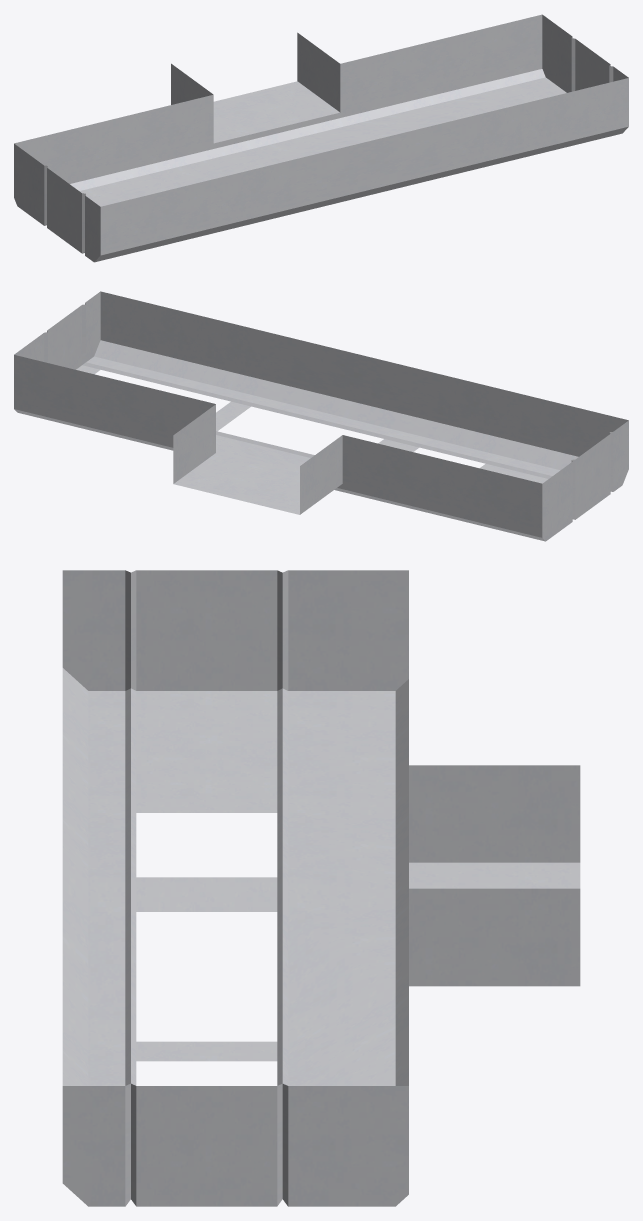
File: SM_Steckdosenbox_02.obj
The picture shows the model from 3 angles, top to bottom: view 1: azimuth 30°, elevation 25°; view 2: azimuth 150°, elevation 25°; view 3: azimuth 270°, elevation 25°; orthographic projection. The views are drawn at different scales.
Visible parts, largest first — view 1: SM_Steckdosenbox_02; view 2: SM_Steckdosenbox_02; view 3: SM_Steckdosenbox_02.
Part boxes in pixels (box(x1,y1,x2,y2)): SM_Steckdosenbox_02: box(14, 14, 628, 262); SM_Steckdosenbox_02: box(14, 291, 628, 541); SM_Steckdosenbox_02: box(62, 570, 580, 1206).
Size of the model in its own units: 0.5765 by 0.063 by 0.2444.
1 material, 1 textured.
